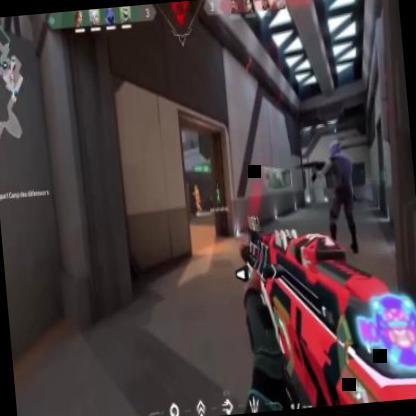enemy: (190, 184, 204, 214)
enemy_head: (194, 184, 198, 190)
